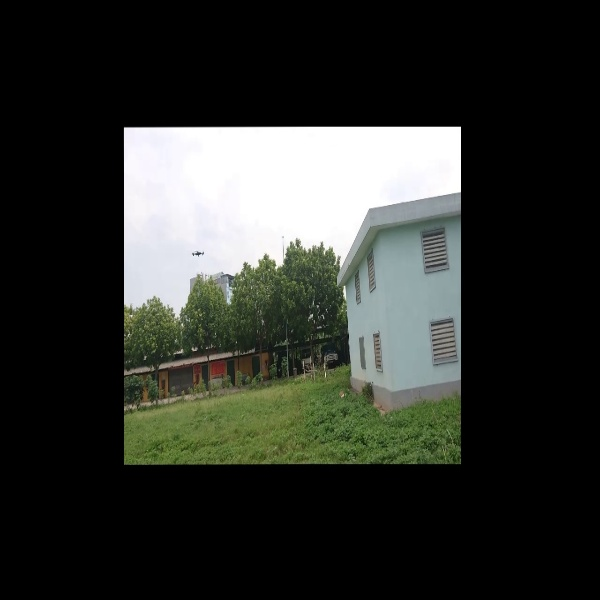drone: (188, 243, 207, 260)
